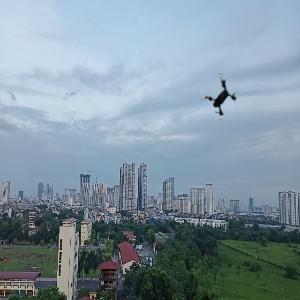drone: (191, 71, 245, 125)
